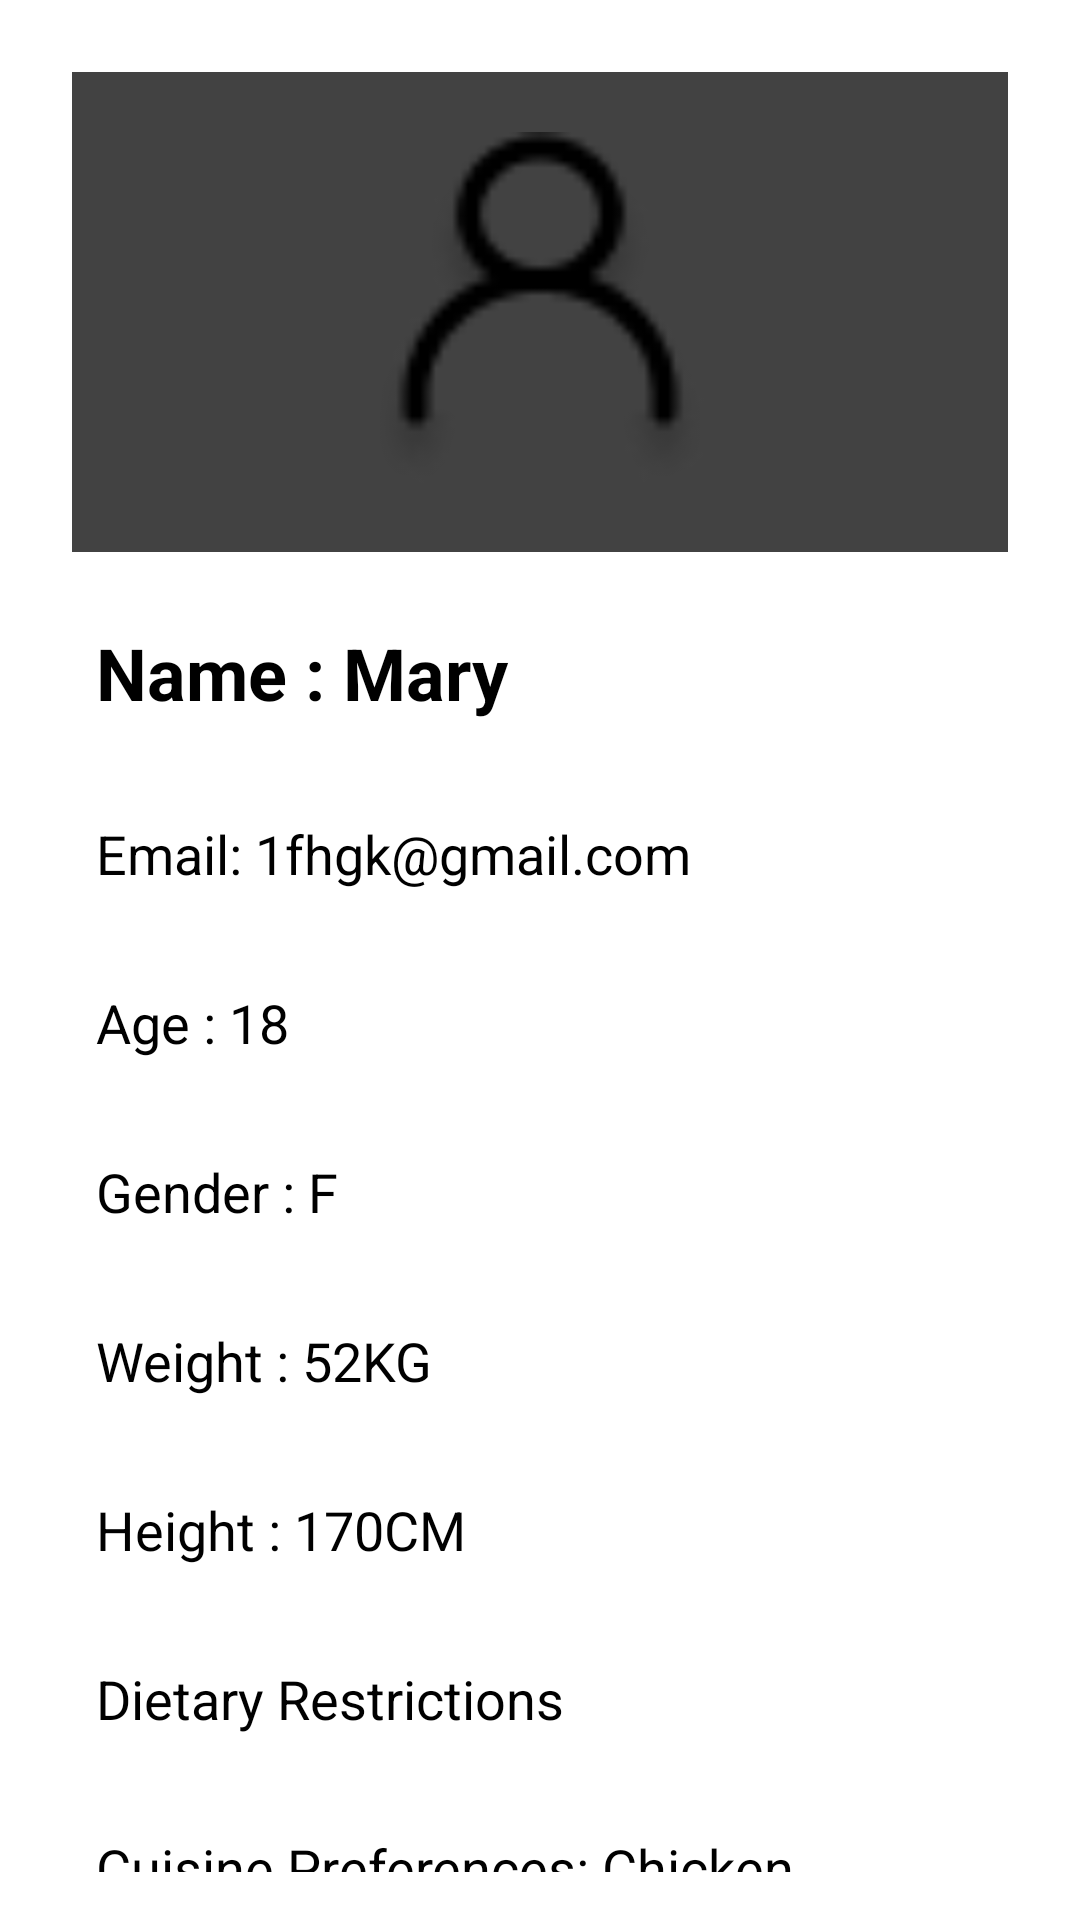

Where icons sit on this 1080*1920 app screen, as (x1, y1, x2, y2):
user: (401, 132, 679, 426)
